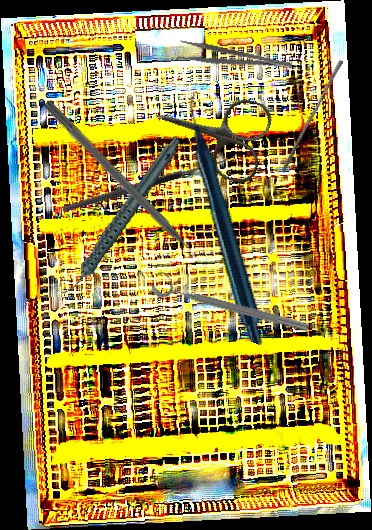Dressing Forceps: (177, 38, 293, 81)
Fixation Ring: (150, 268, 313, 337)
Handpiece: (115, 89, 340, 347), (32, 136, 209, 298)
Hook Surgical: (59, 146, 232, 215)
Iris Scissors: (144, 75, 276, 187)
Pusher: (41, 99, 211, 274), (280, 57, 344, 176)
